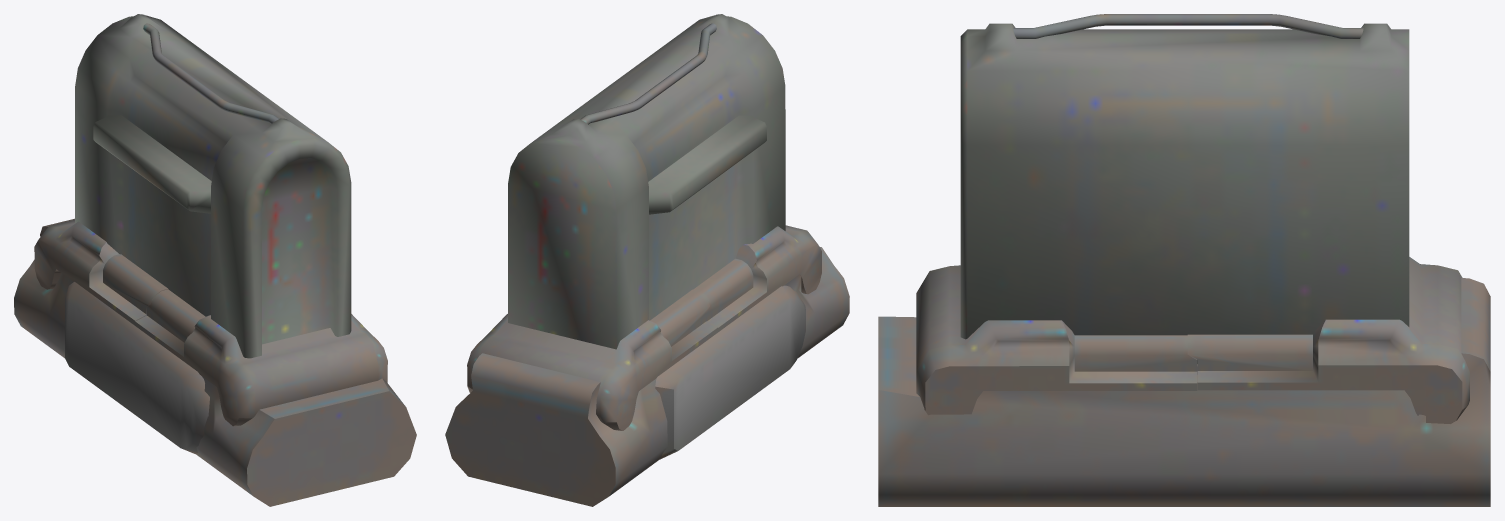
File: mag3.obj
3 views of the same model, side by side, from view 1: azimuth 30°, elevation 25°; view 2: azimuth 150°, elevation 25°; view 3: azimuth 270°, elevation 25° (orthographic). The views are drawn at different scales.
Visible parts, largest first — view 1: mag3; view 2: mag3; view 3: mag3.
Part boxes in pixels (box(x1,y1,x2,y2)): mag3: box(14, 14, 416, 506); mag3: box(445, 14, 849, 506); mag3: box(878, 14, 1490, 506).
Size of the model in its own units: 9.65 by 17.89 by 22.46.
